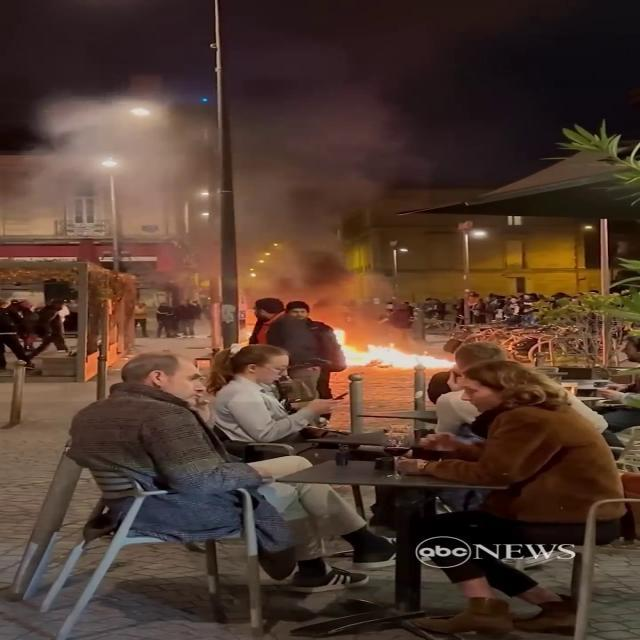Fire: (332, 325, 448, 373)
Smoke: (154, 54, 426, 304)
